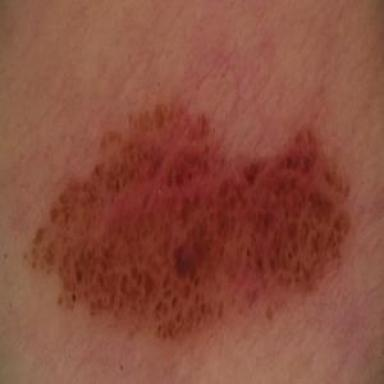Melanoma: (34, 105, 348, 336)
